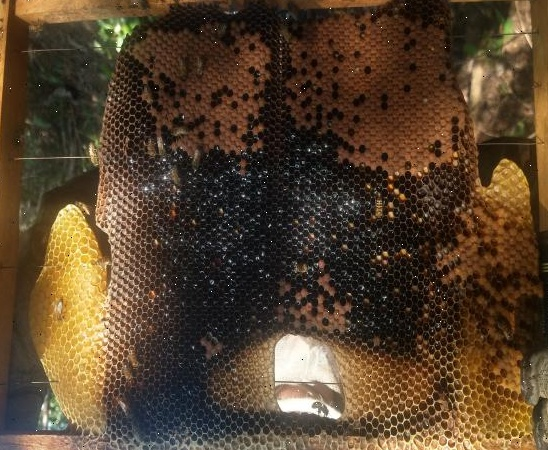cria: (128, 9, 465, 176), (436, 201, 544, 392)
